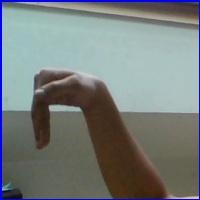del: (24, 65, 113, 155)
